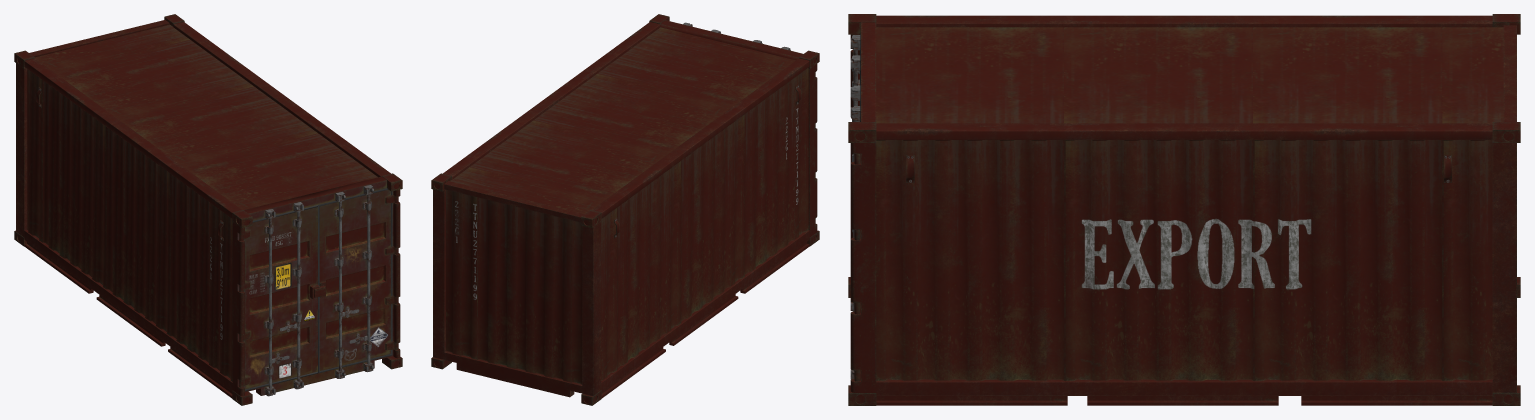
Rendered from container.glb.
3 views of the same model, side by side, from view 1: azimuth 30°, elevation 25°; view 2: azimuth 150°, elevation 25°; view 3: azimuth 270°, elevation 25° (orthographic). The views are drawn at different scales.
Visible parts, largest first — view 1: Part01_low; view 2: Part01_low; view 3: Part01_low.
Boxes of the visible parts, box(x1,y1,x2,y2) form: Part01_low: box(14, 14, 402, 405); Part01_low: box(431, 14, 819, 405); Part01_low: box(848, 14, 1520, 405).
Bounding box in the file's own units: 2.68 × 2.92 × 6.45.
2 materials, 2 textured.
